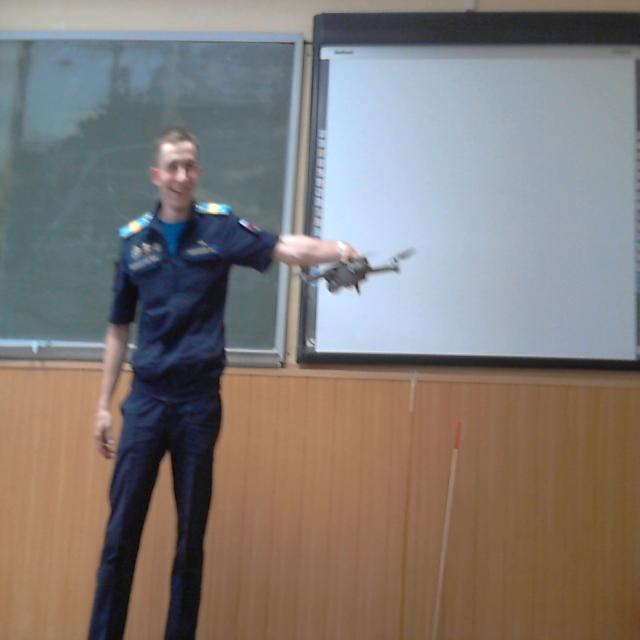drone: (293, 220, 427, 302)
